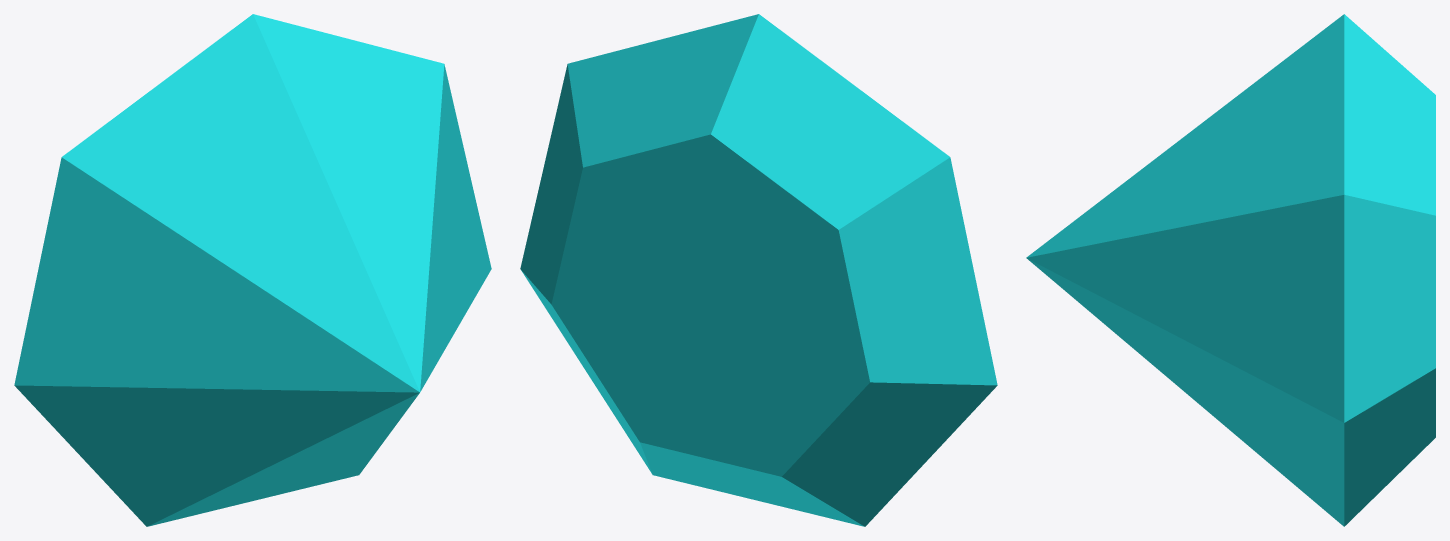
Rendered from Diamond.fbx.
3 renders of one model, left to right at view 1: azimuth 30°, elevation 25°; view 2: azimuth 150°, elevation 25°; view 3: azimuth 270°, elevation 25°, orthographic. The views are drawn at different scales.
Visible parts, largest first — view 1: Cylinder; view 2: Cylinder; view 3: Cylinder.
Part boxes in pixels (x1=…): Cylinder: x1=14, y1=14, x2=491, y2=526; Cylinder: x1=520, y1=14, x2=997, y2=526; Cylinder: x1=1026, y1=14, x2=1435, y2=526.
Size of the model in its own units: 195 by 190 by 152.
